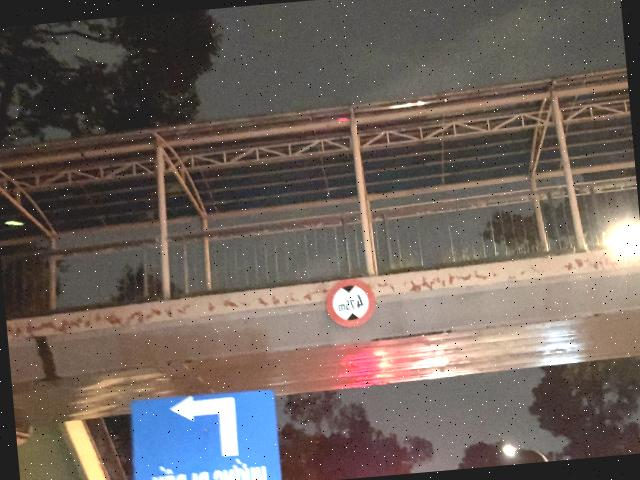han-che-chieu-cao: (324, 276, 376, 330)
